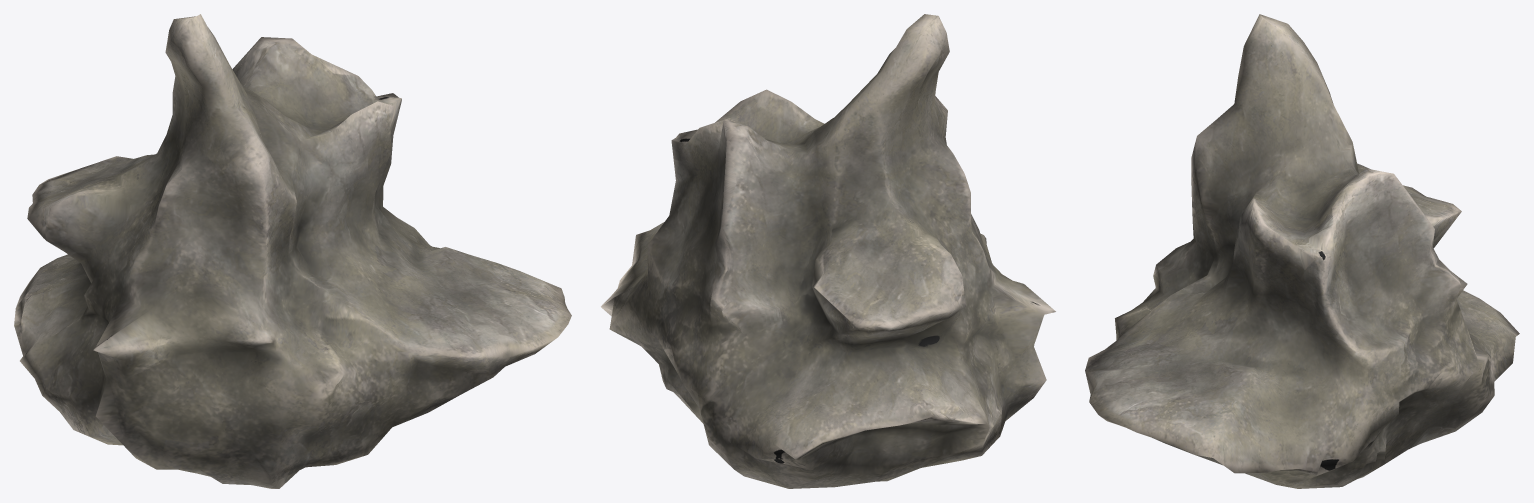
The model's file is rock4_LOD0.fbx.
The picture shows the model from 3 angles, left to right: view 1: azimuth 30°, elevation 25°; view 2: azimuth 150°, elevation 25°; view 3: azimuth 270°, elevation 25°; orthographic projection. The views are drawn at different scales.
Visible parts, largest first — view 1: rock4; view 2: rock4; view 3: rock4.
Boxes of the visible parts, x1=… form: rock4: x1=14, y1=14, x2=571, y2=488; rock4: x1=601, y1=14, x2=1055, y2=488; rock4: x1=1085, y1=14, x2=1519, y2=488.
Bounding box in the file's own units: 21.2 × 20.71 × 19.81.
